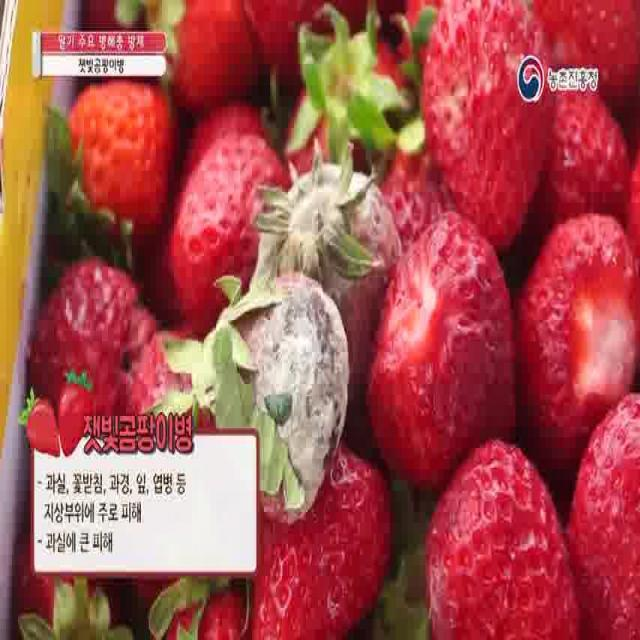Fruta sana: (382, 223, 510, 454), (424, 0, 549, 210), (524, 206, 632, 444), (59, 92, 170, 240)
Moho gris: (209, 272, 345, 506), (255, 152, 392, 362)
